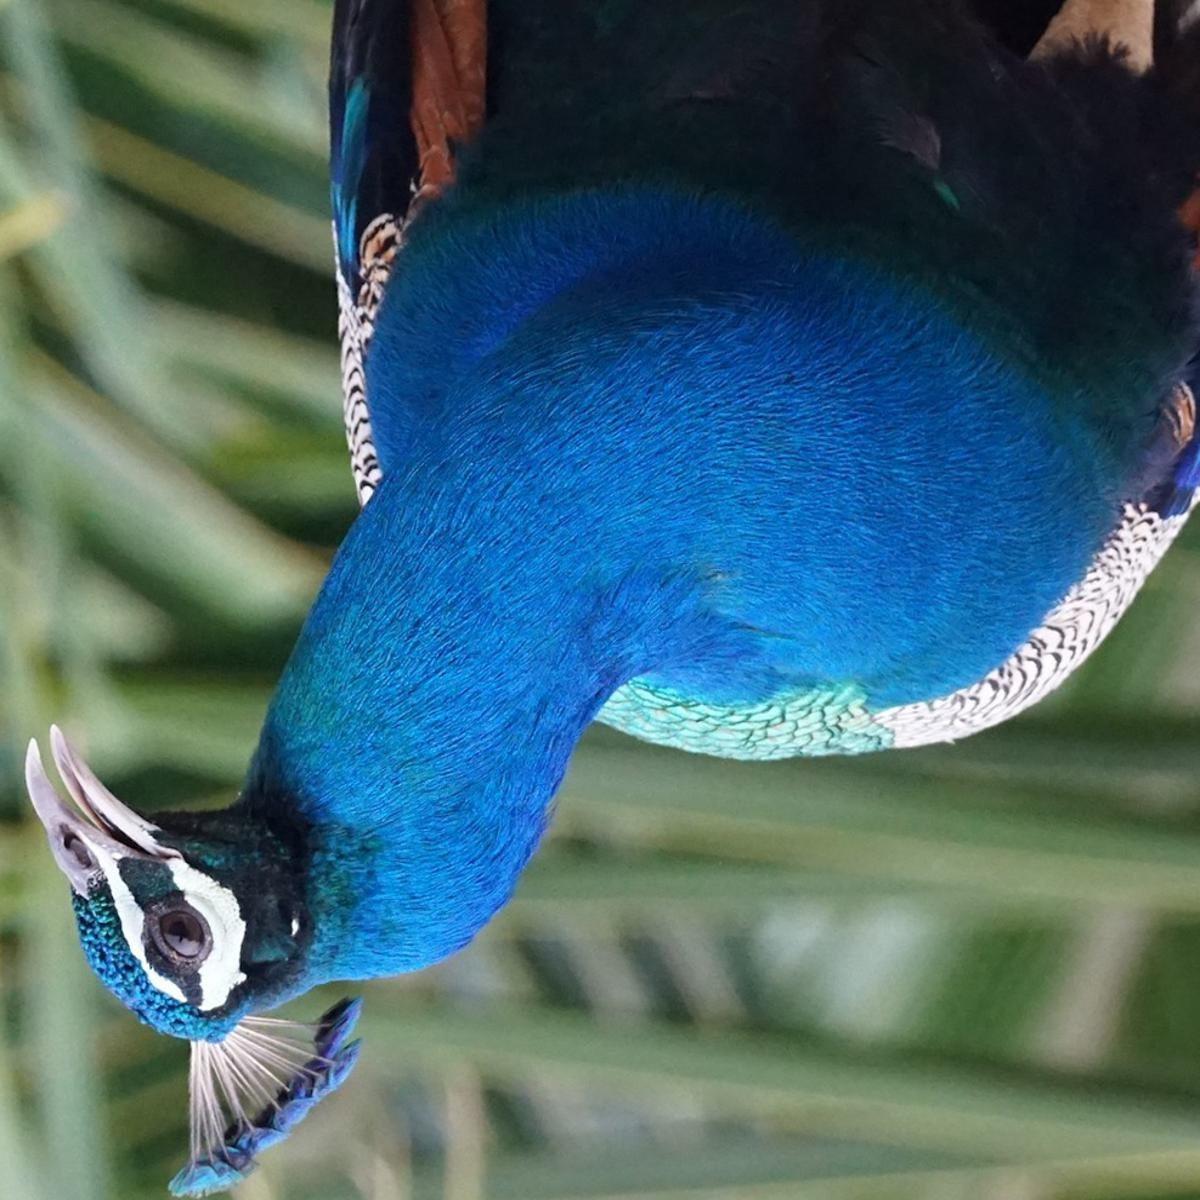peacock: (26, 89, 1154, 1105)
